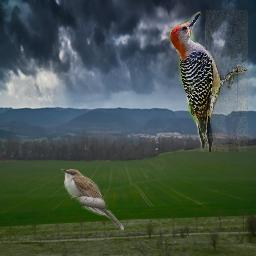Cuckoo: (61, 169, 124, 230)
Woodpecker: (165, 10, 248, 152)
